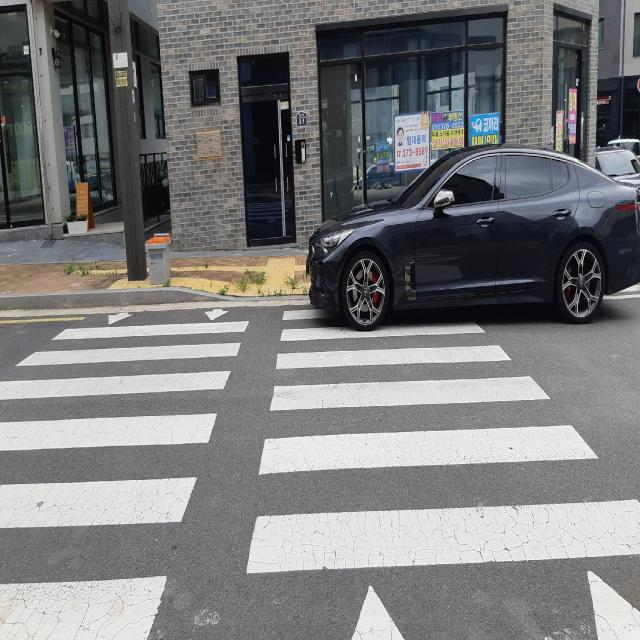횡단보도: (0, 301, 640, 640)
